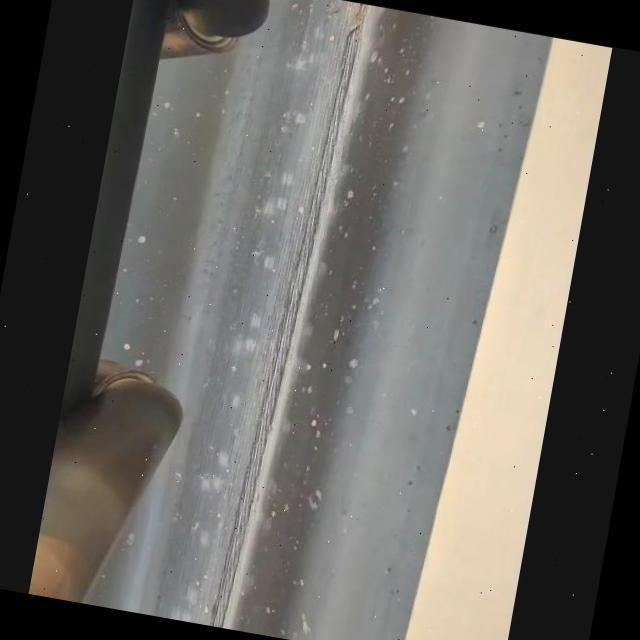Wear: (208, 0, 378, 630)
